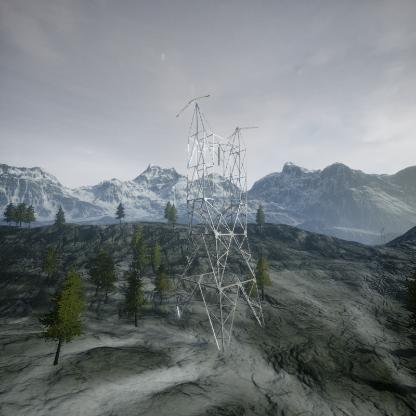tower: (172, 92, 268, 348)
